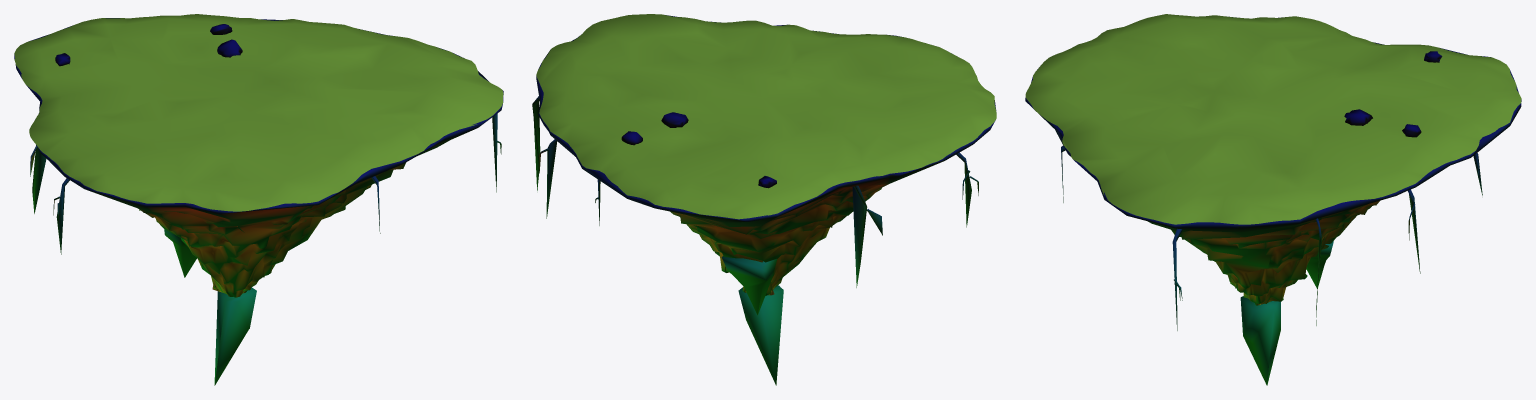
The model's file is SM_FloatingRock_A_L2.glb.
3 views of the same model, side by side, from view 1: azimuth 30°, elevation 25°; view 2: azimuth 150°, elevation 25°; view 3: azimuth 270°, elevation 25° (orthographic). The views are drawn at different scales.
Parts seen in each view (by area): view 1: SM_FloatingRock_A; view 2: SM_FloatingRock_A; view 3: SM_FloatingRock_A.
Boxes of the visible parts, <box> form: SM_FloatingRock_A: <box>14,14,503,385</box>; SM_FloatingRock_A: <box>532,14,996,385</box>; SM_FloatingRock_A: <box>1025,14,1521,385</box>.
Bounding box in the file's own units: 13.43 × 8.91 × 13.16.
